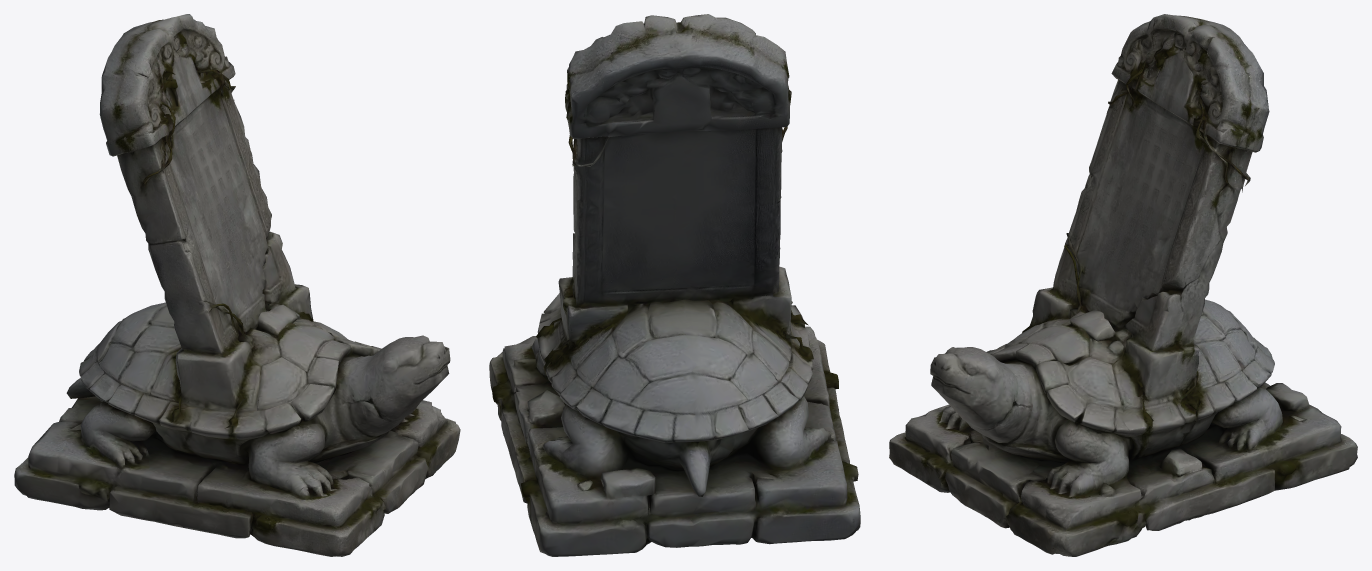
3 views of the same model, side by side, from view 1: azimuth 30°, elevation 25°; view 2: azimuth 150°, elevation 25°; view 3: azimuth 270°, elevation 25° (orthographic). The views are drawn at different scales.
Parts seen in each view (by area): view 1: tripo_node_bf769c9d-b2f1-4c59-bd5f-f7646a573296; view 2: tripo_node_bf769c9d-b2f1-4c59-bd5f-f7646a573296; view 3: tripo_node_bf769c9d-b2f1-4c59-bd5f-f7646a573296.
Boxes of the visible parts, bbox=[...] form: tripo_node_bf769c9d-b2f1-4c59-bd5f-f7646a573296: bbox=[14, 14, 460, 556]; tripo_node_bf769c9d-b2f1-4c59-bd5f-f7646a573296: bbox=[489, 14, 860, 556]; tripo_node_bf769c9d-b2f1-4c59-bd5f-f7646a573296: bbox=[889, 14, 1357, 556].
Size of the model in its own units: 0.9346 by 1 by 0.9935.
1 material, 1 textured.
